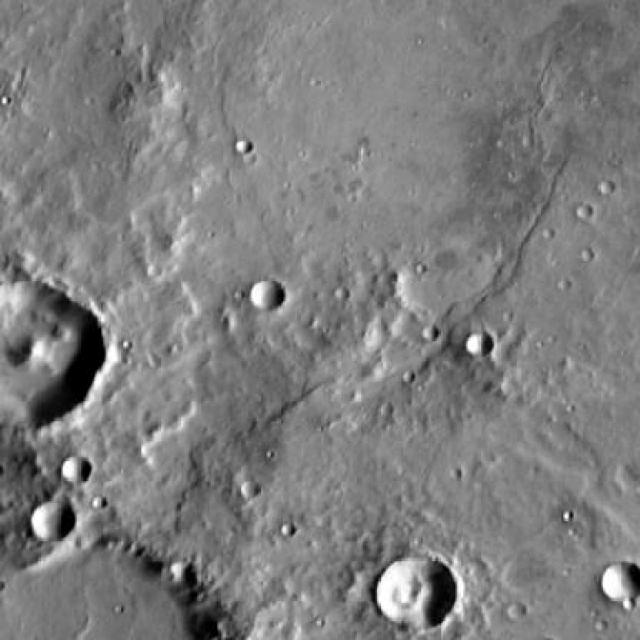crater: (0, 521, 215, 640), (0, 274, 97, 424), (378, 555, 458, 630), (30, 497, 75, 538), (597, 558, 640, 599), (162, 557, 193, 586), (253, 282, 284, 310), (64, 455, 93, 482), (467, 333, 493, 358), (241, 477, 261, 497), (592, 175, 611, 194), (576, 200, 595, 218), (504, 606, 522, 623), (236, 138, 255, 154)
